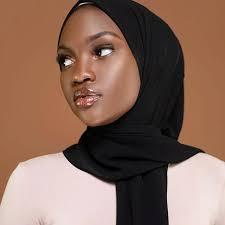No Mask: (34, 0, 198, 161)
